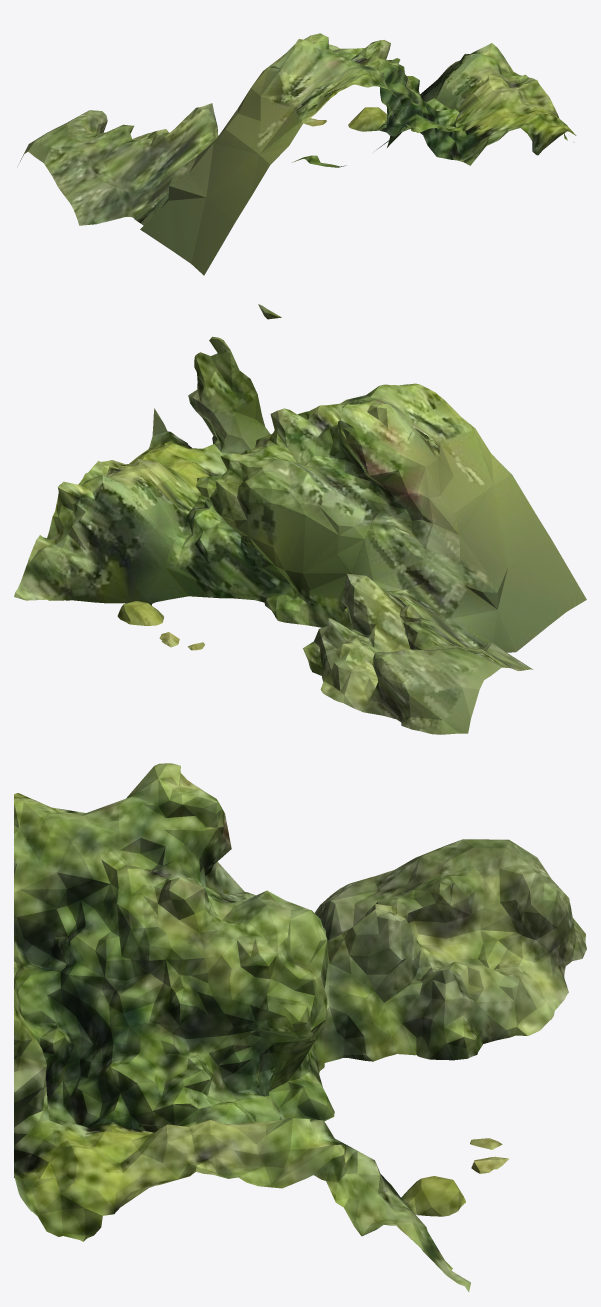
The picture shows the model from 3 angles, top to bottom: view 1: azimuth 30°, elevation 25°; view 2: azimuth 150°, elevation 25°; view 3: azimuth 270°, elevation 25°; orthographic projection. The views are drawn at different scales.
Size of the model in its own units: 26.11 by 11.18 by 16.64.
Materials: 2 (2 with a texture image).
